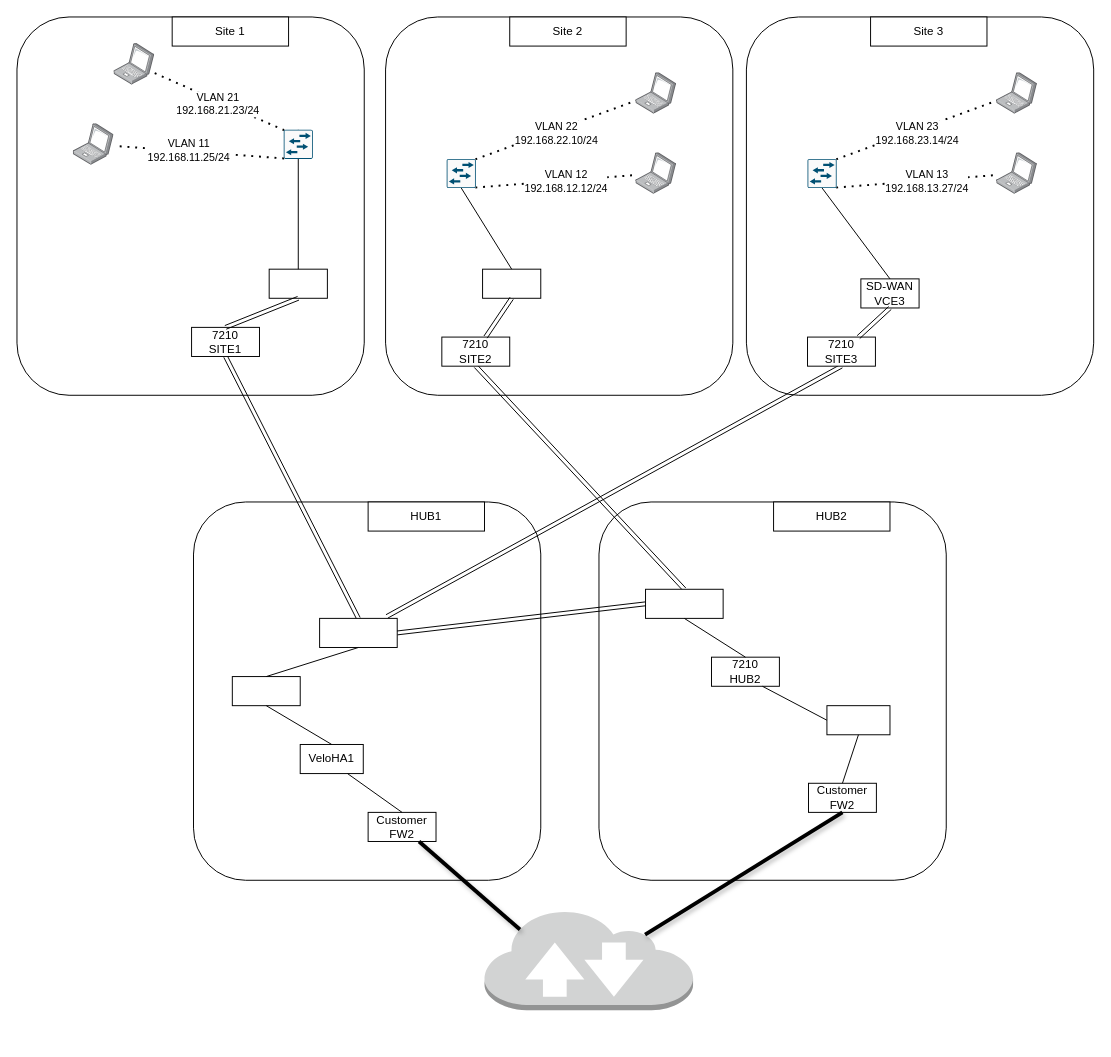
The diagram is 1111 pixels wide and 1057 high, and some of its shapes have lost their labels. The shapes that lost their labels are listed below. From the top down, each one's centre as x and y in pixels, then its label:
At [297,283]: "SD-WAN VCE1".
At [511,283]: "SD-WAN VCE2".
At [684,603]: "SD-WAN HUB2".
At [358,632]: "SD-WAN HUB1".
At [265,691]: "7210 HUB1".
At [858,720]: "VeloHA2".
At [588,959]: "Public Internet".
